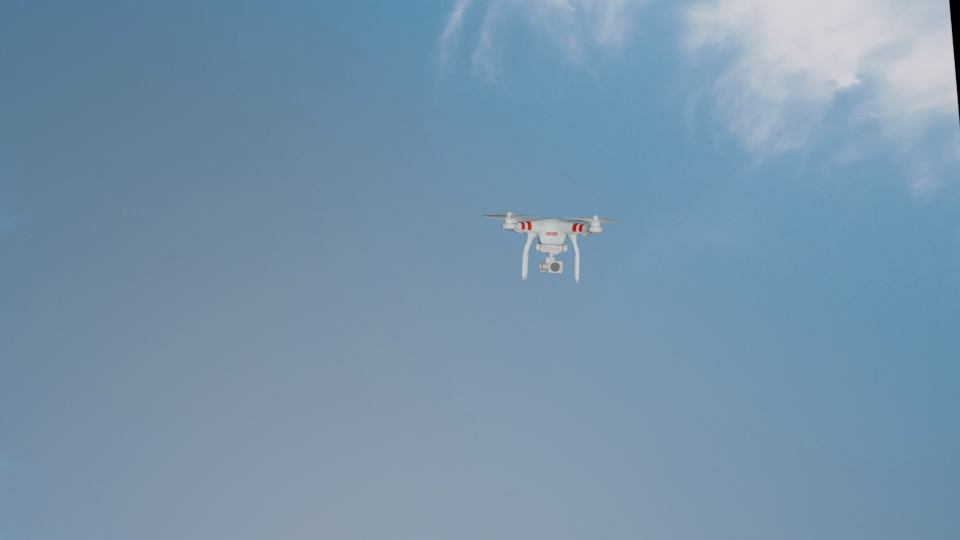drone: (476, 212, 617, 282)
